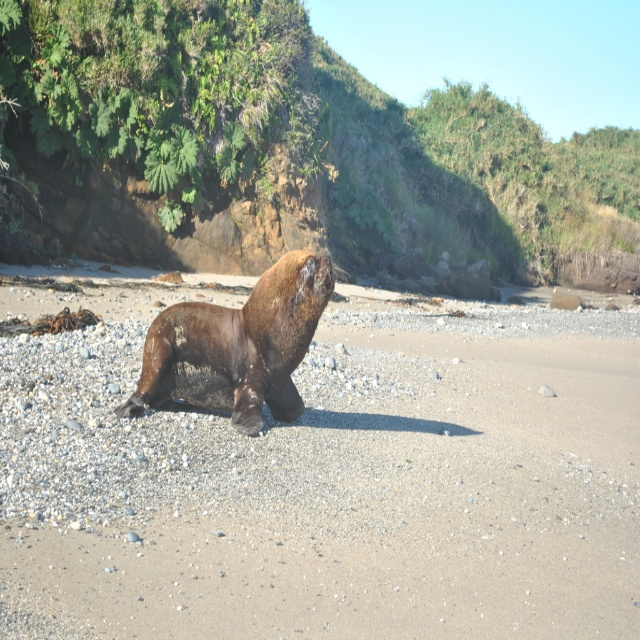Sea lion: (113, 256, 352, 434)
